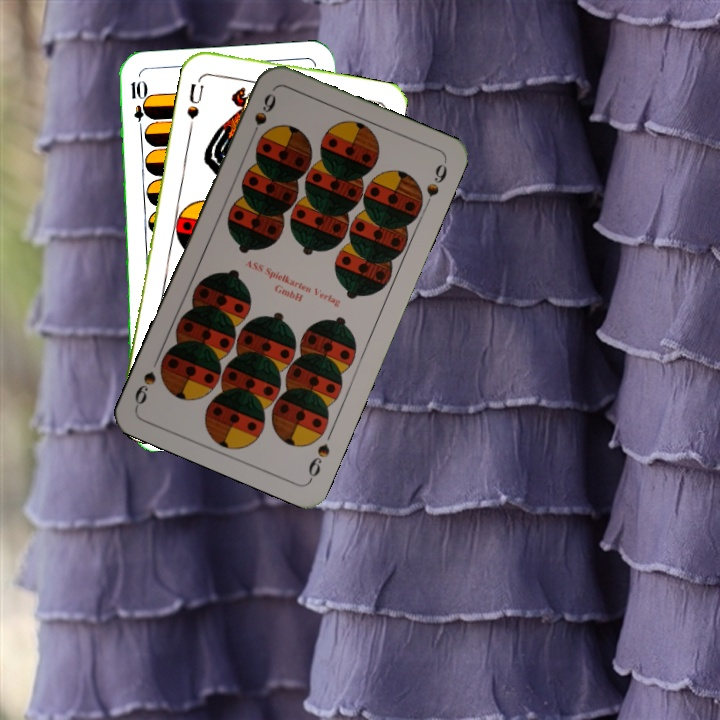E10: (126, 76, 147, 135)
S9: (246, 89, 279, 143), (304, 439, 333, 483)
SU: (182, 72, 207, 122)
